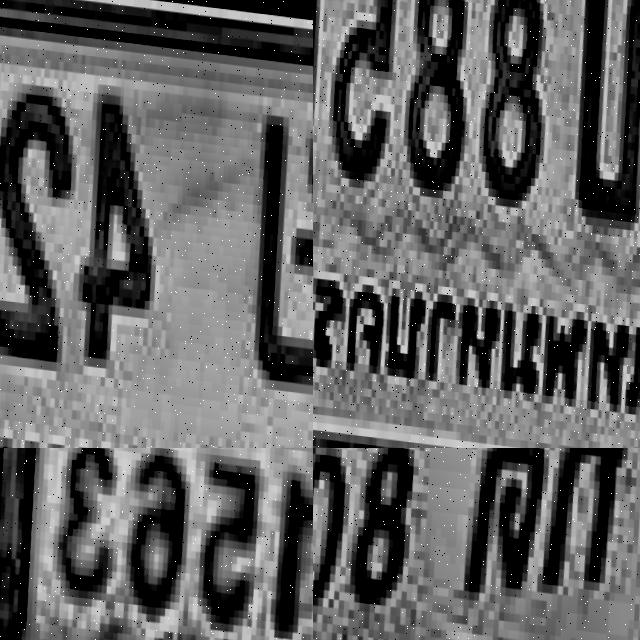license-plate: (313, 0, 640, 448), (0, 0, 313, 448), (313, 448, 640, 640), (0, 448, 313, 640)
